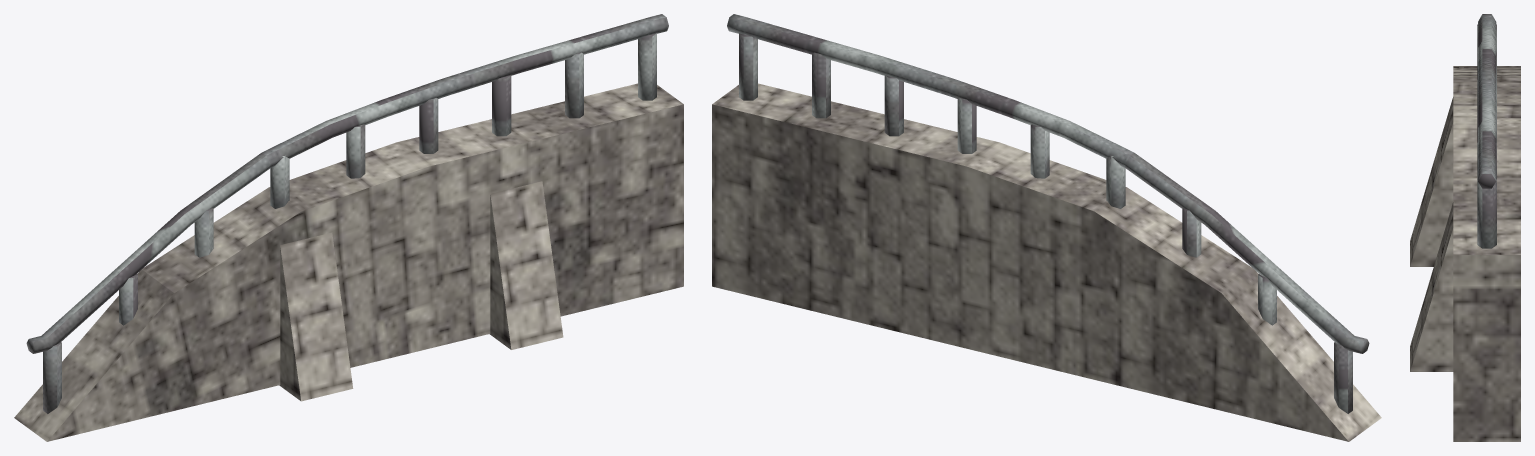
Rendered from bridge_up.fbx.
The picture shows the model from 3 angles, left to right: view 1: azimuth 30°, elevation 25°; view 2: azimuth 150°, elevation 25°; view 3: azimuth 270°, elevation 25°; orthographic projection. The views are drawn at different scales.
Parts seen in each view (by area): view 1: Cylinder.001; view 2: Cylinder.001; view 3: Cylinder.001.
Boxes of the visible parts, box(x1,y1,x2,y2) form: Cylinder.001: box(14, 14, 683, 441); Cylinder.001: box(712, 14, 1381, 441); Cylinder.001: box(1410, 14, 1520, 441).
Bounding box in the file's own units: 2447 × 957 × 359.
